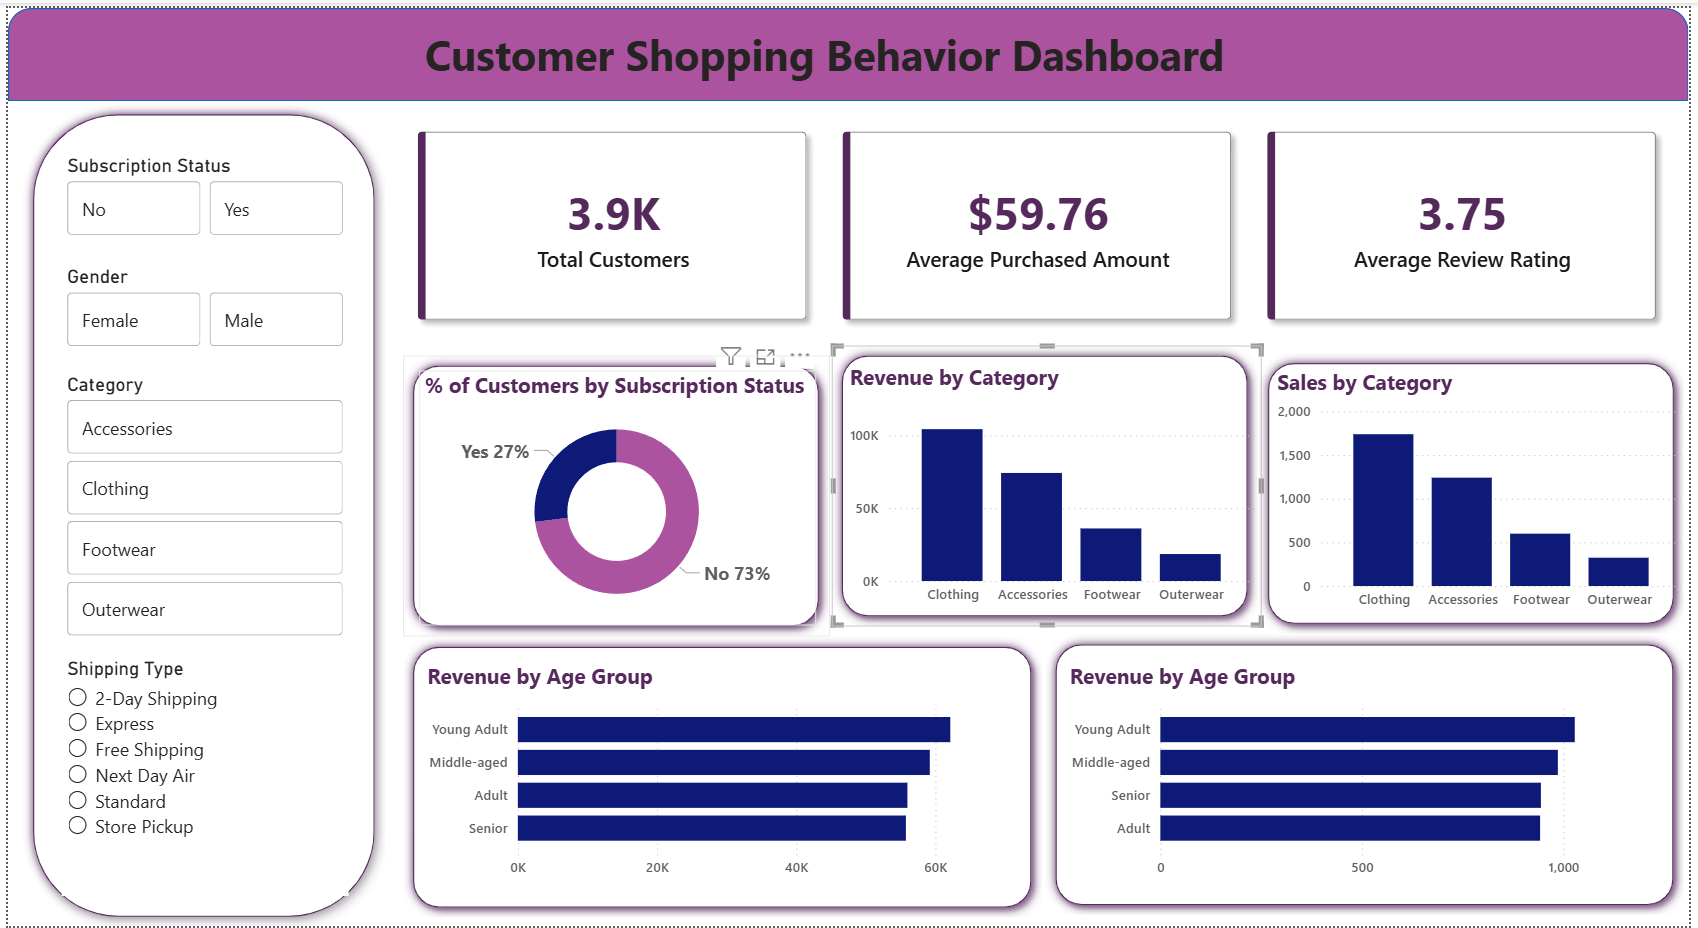

This screenshot's page, from the dashboard's own definition file:
{"tool":"powerbi","page":{"name":"Page 1","canvas":[1500,820],"ordinal":0},"visuals":[{"type":"cardVisual","fields":{"Data":["Key Measures.Total Customers","Key Measures.Average Purchased Amount","Key Measures.Average Review Rating"]},"box":[336.6,81.8,1163.7,226.2],"z":3},{"type":"shape","box":[0,0,1500.3,83.1],"z":4},{"type":"textbox","box":[352.9,10.9,763.1,62.7],"z":5},{"type":"shape","box":[352.9,310.7,380.2,250.7],"z":6,"group":"g1"},{"type":"donutChart","title":"% of Customers by Subscription Status","fields":{"Category":["customer.subscription_status"],"Y":["CountNonNull(customer.customer_id)"]},"box":[367.9,324.3,352.9,227.6],"z":7,"group":"g1"},{"type":"shape","box":[735.8,301.1,380.2,250.7],"z":8,"group":"g2"},{"type":"shape","box":[1116,308,380.2,250.7],"z":9,"group":"g3"},{"type":"columnChart","title":"Revenue by Category ","fields":{"Category":["customer.category"],"Y":["Sum(customer.purchase_amount)"]},"box":[746.9,317.3,372,224.8],"z":10,"group":"g2"},{"type":"columnChart","title":"Sales by Category ","fields":{"Category":["customer.category"],"Y":["CountNonNull(customer.customer_id)"]},"box":[1128.3,321.7,372,224.8],"z":11,"group":"g3"},{"type":"shape","box":[352.9,561.4,570,250.7],"z":12},{"type":"group","id":"g1","title":"Group 1","box":[352.9,310.7,380.2,250.7],"z":13},{"type":"group","id":"g2","title":"Group 2","box":[735.8,301.1,383.1,250.7],"z":14},{"type":"group","id":"g3","title":"Group 3","box":[1116,308,384.3,250.7],"z":15},{"type":"shape","box":[926.6,558.7,569.6,250.7],"z":16},{"type":"barChart","title":"Revenue by Age Group","fields":{"Category":["customer.age_group"],"Y":["Sum(customer.purchase_amount)"]},"box":[369.3,583.2,536.9,201.7],"z":17},{"type":"barChart","title":"Revenue by Age Group","fields":{"Category":["customer.age_group"],"Y":["CountNonNull(customer.customer_id)"]},"box":[943,583.2,536.9,201.7],"z":18},{"type":"shape","box":[13.6,85.8,322.9,734.5],"z":19},{"type":"advancedSlicerVisual","fields":{"Values":["customer.subscription_status"]},"box":[47.7,130.8,256.2,77.7],"z":20},{"type":"advancedSlicerVisual","fields":{"Values":["customer.gender"]},"box":[47.7,230.3,256.2,77.7],"z":21},{"type":"advancedSlicerVisual","fields":{"Values":["customer.category"]},"box":[47.7,325.7,256.2,239.8],"z":22},{"type":"listSlicer","fields":{"Values":["customer.shipping_type"]},"box":[47.7,579.1,256.2,213.9],"z":23}]}

Visuals, with their boxes in screenshot pixels (x1, y1, x2, y2), scaled from the page's 1500x820 canvas onto the 1698x928 screenshot:
cardVisual - Key Measures.Total Customers x Key Measures.Average Purchased Amount: <box>381,93,1697,349</box>
shape: <box>0,0,1697,94</box>
textbox: <box>399,12,1263,83</box>
shape: <box>399,352,830,635</box>
"% of Customers by Subscription Status" donutChart: <box>416,367,816,625</box>
shape: <box>833,341,1263,624</box>
shape: <box>1263,349,1694,632</box>
"Revenue by Category " columnChart: <box>845,359,1267,613</box>
"Sales by Category " columnChart: <box>1277,364,1697,618</box>
shape: <box>399,635,1045,919</box>
"Group 1" group: <box>399,352,830,635</box>
"Group 2" group: <box>833,341,1267,624</box>
"Group 3" group: <box>1263,349,1697,632</box>
shape: <box>1049,632,1694,916</box>
"Revenue by Age Group" barChart: <box>418,660,1026,888</box>
"Revenue by Age Group" barChart: <box>1067,660,1675,888</box>
shape: <box>15,97,381,927</box>
advancedSlicerVisual - customer.subscription_status: <box>54,148,344,236</box>
advancedSlicerVisual - customer.gender: <box>54,261,344,349</box>
advancedSlicerVisual - customer.category: <box>54,369,344,640</box>
listSlicer - customer.shipping_type: <box>54,655,344,897</box>
